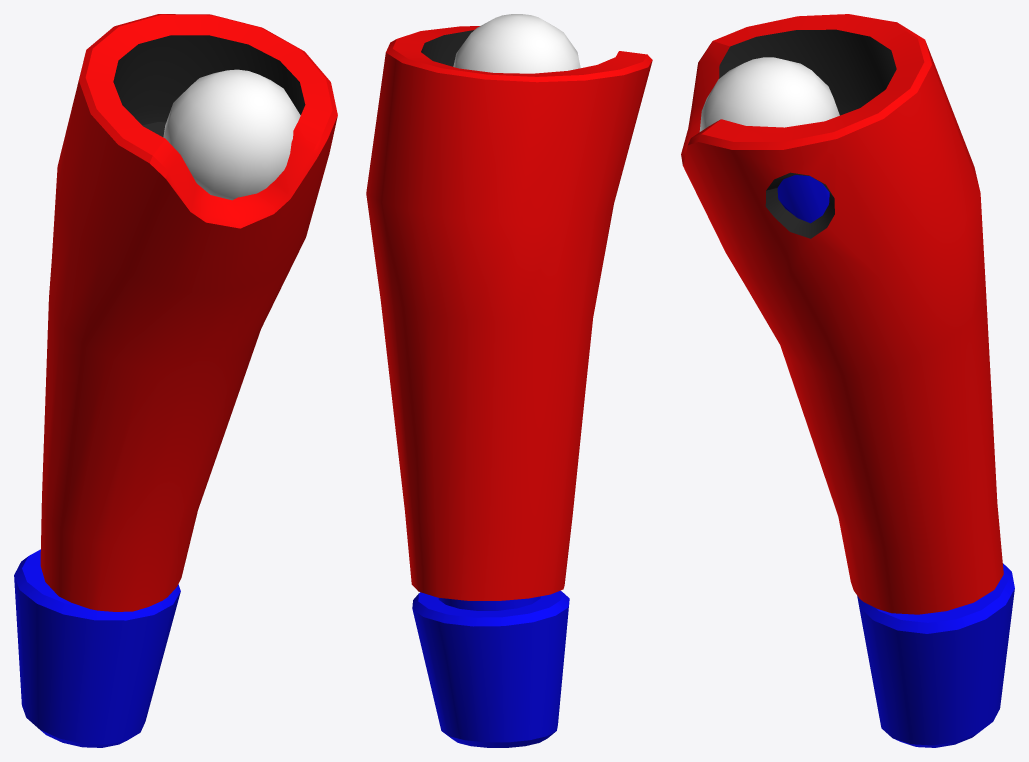
File: Rabbot_LowerLeg.fbx
The picture shows the model from 3 angles, left to right: view 1: azimuth 30°, elevation 25°; view 2: azimuth 150°, elevation 25°; view 3: azimuth 270°, elevation 25°; orthographic projection. The views are drawn at different scales.
Parts seen in each view (by area): view 1: Rabbot_LowerLeg; view 2: Rabbot_LowerLeg; view 3: Rabbot_LowerLeg.
Boxes of the visible parts, box(x1,y1,x2,y2) form: Rabbot_LowerLeg: box(14, 14, 337, 747); Rabbot_LowerLeg: box(366, 14, 652, 747); Rabbot_LowerLeg: box(681, 14, 1014, 747).
Size of the model in its own units: 16.22 by 46.81 by 20.16.
